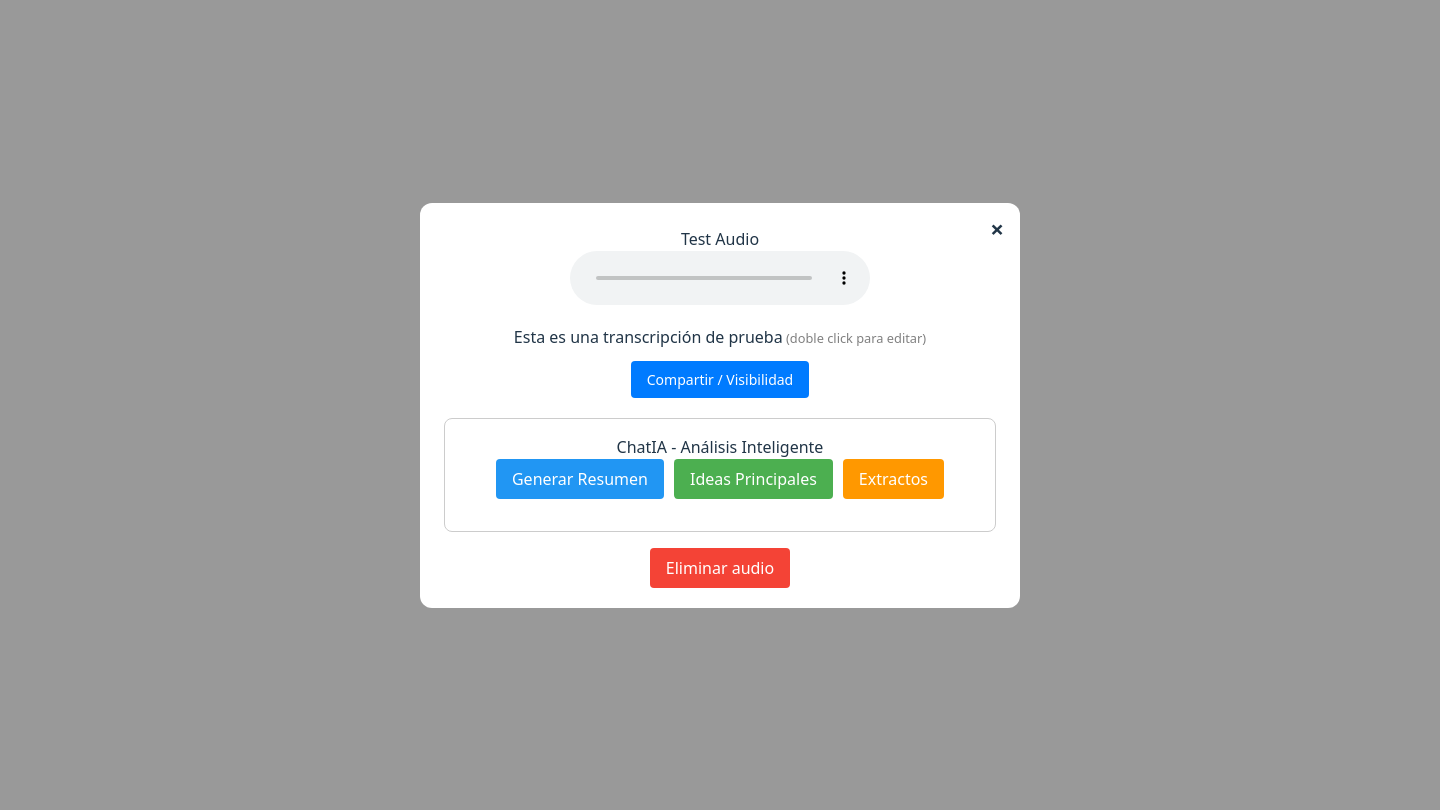
it: SeleccionHistorial - Smoke Tests › debe cancelar la eliminación
# Abrir confirmación
What coordinates should you click on to do the following:
click the button "Eliminar audio"
I would click on:
 (720, 568)
Its box is [650, 548, 790, 588].
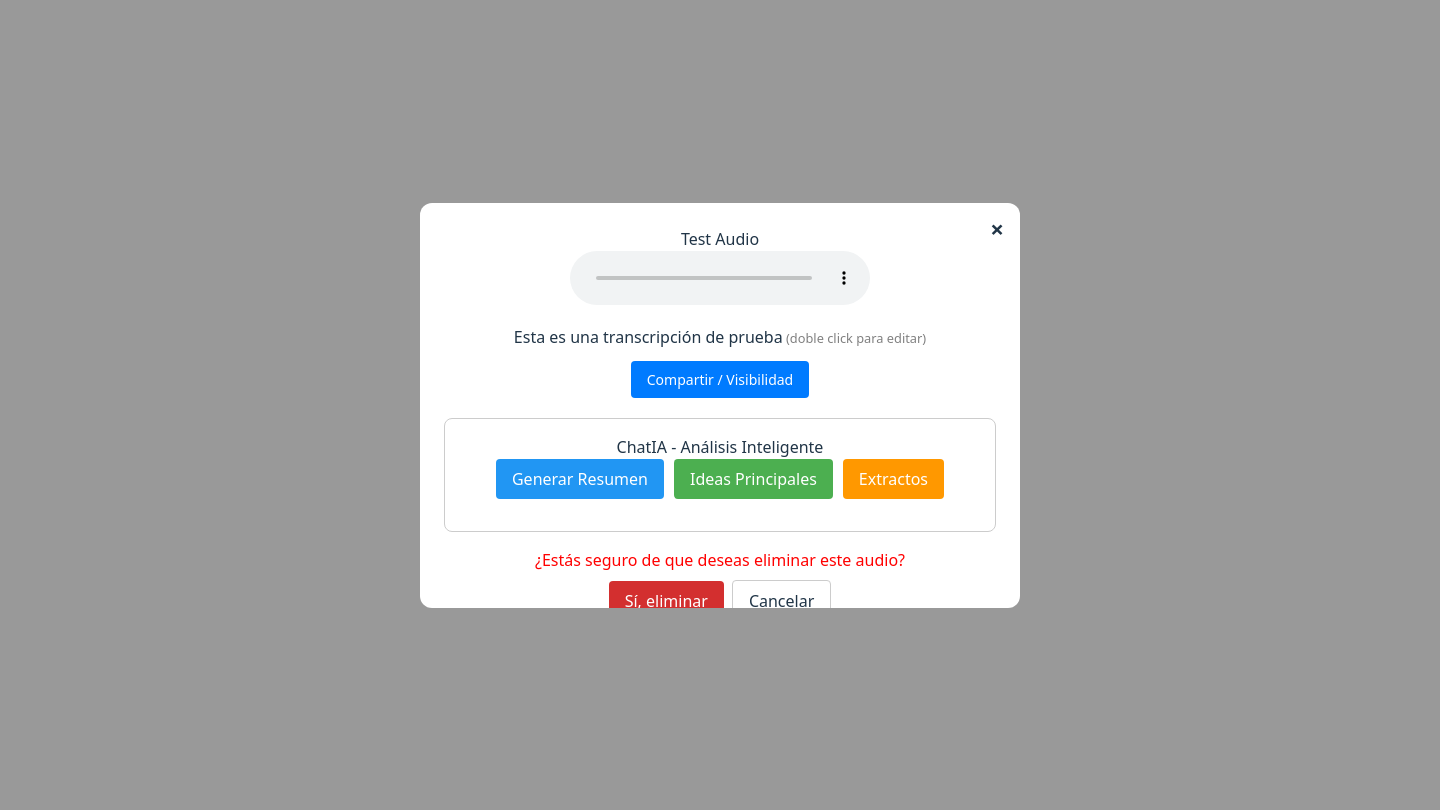
What coordinates should you click on to do the following:
click the button "Cancelar"
I would click on:
 (782, 600)
Its box is [732, 580, 831, 622].
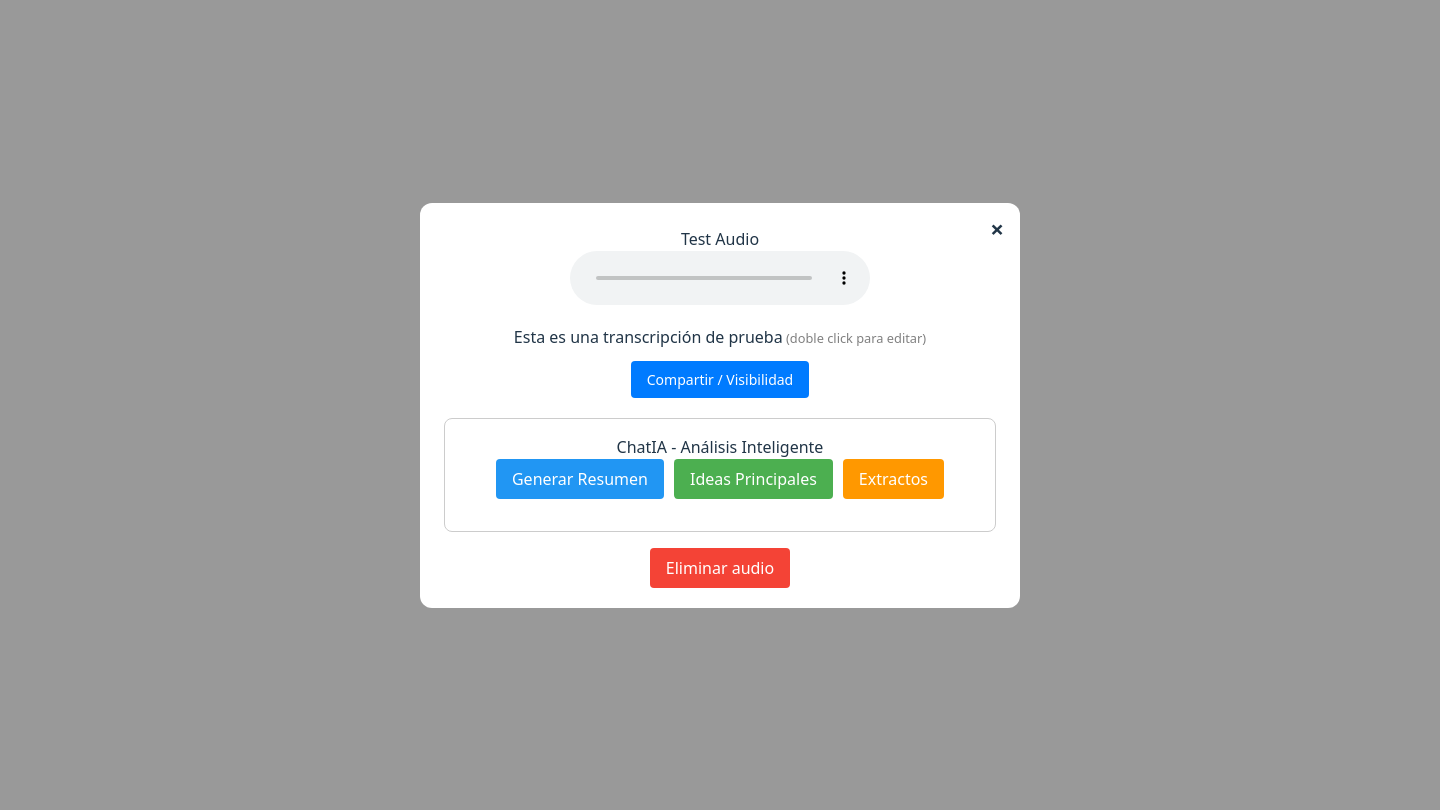
Check: the text "¿Estás seguro" is gone
